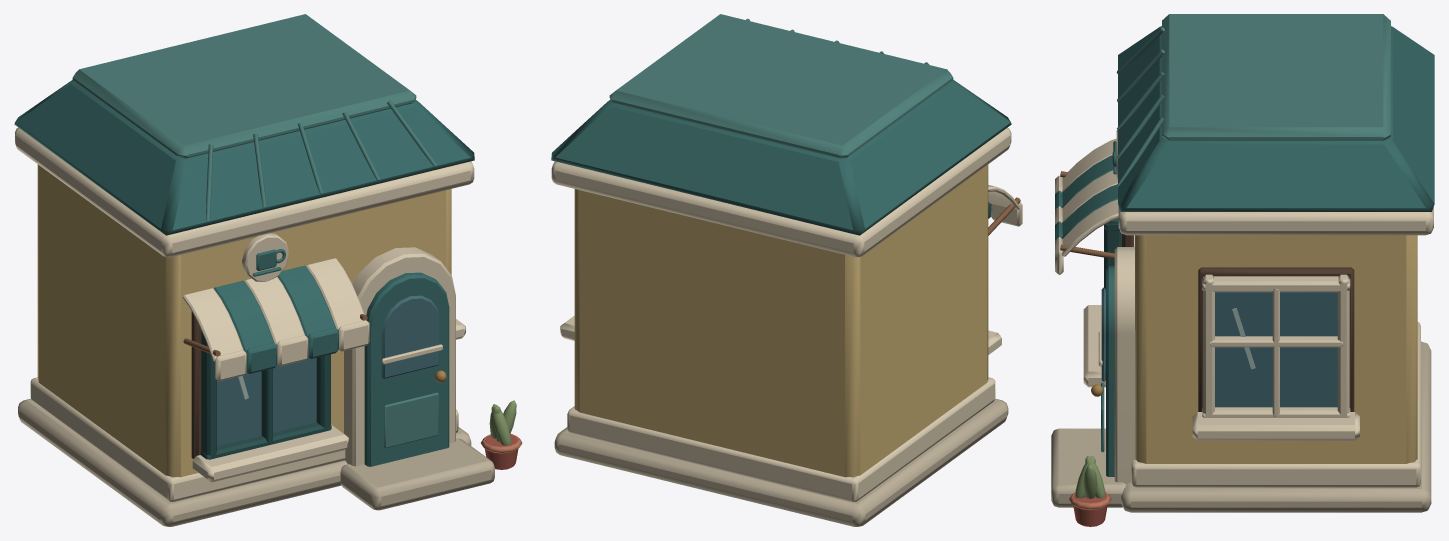
The model's file is cafe_level_1.glb.
3 renders of one model, left to right at view 1: azimuth 30°, elevation 25°; view 2: azimuth 150°, elevation 25°; view 3: azimuth 270°, elevation 25°, orthographic. The views are drawn at different scales.
Parts seen in each view (by area): view 1: cafe_level_1_runtime; view 2: cafe_level_1_runtime; view 3: cafe_level_1_runtime.
Part boxes in pixels (left/top/right/bottom): cafe_level_1_runtime: left=14, top=14, right=522, bottom=526; cafe_level_1_runtime: left=551, top=14, right=1022, bottom=526; cafe_level_1_runtime: left=1051, top=14, right=1434, bottom=526.
Size of the model in its own units: 2.99 by 3.02 by 2.84.
